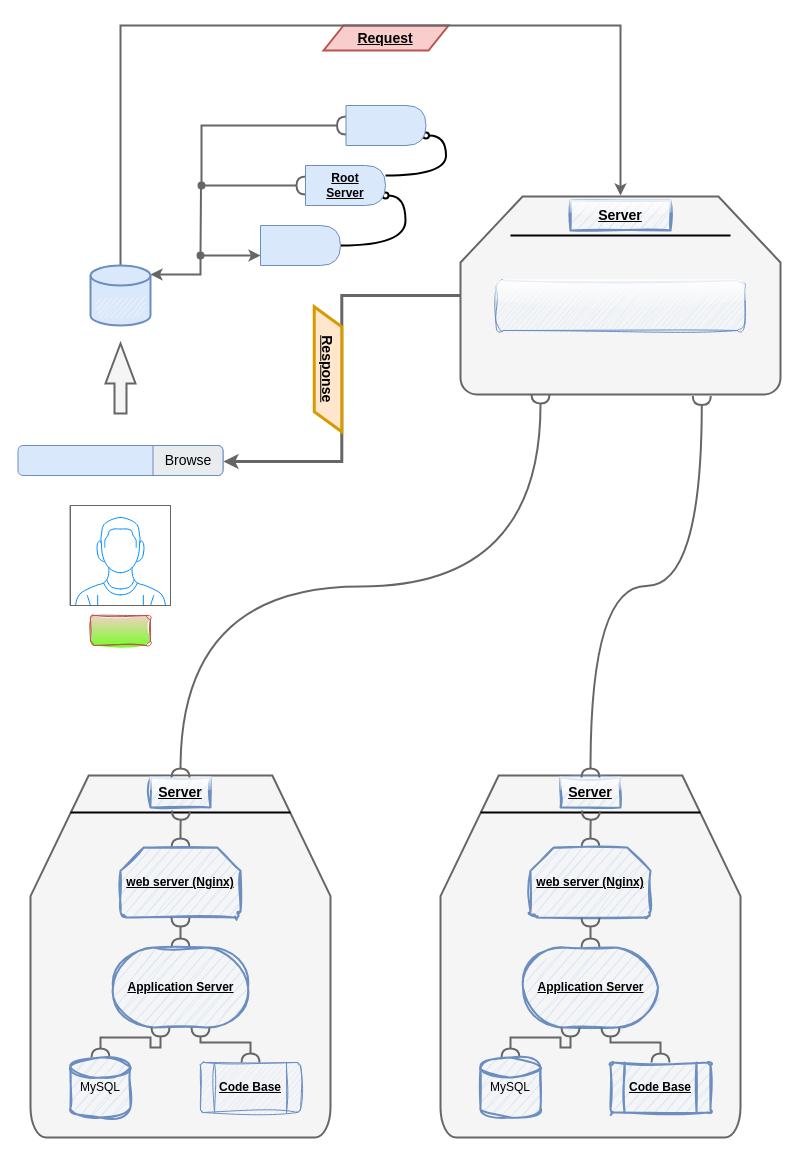
Some shapes in this 798 by 1155 pixel diagram are drawn without their labels. The box of each missing label's shape, as (x1, y1, x2, y2) in pixels:
Cache: (95, 295, 145, 315)
Load-Balancer (HAproxy): (495, 280, 745, 330)
Reslover [ISP]: (260, 224, 340, 266)
TLD Server: (345, 104, 426, 146)
User: (90, 614, 150, 646)
www.foobar.com: (17, 444, 223, 476)
